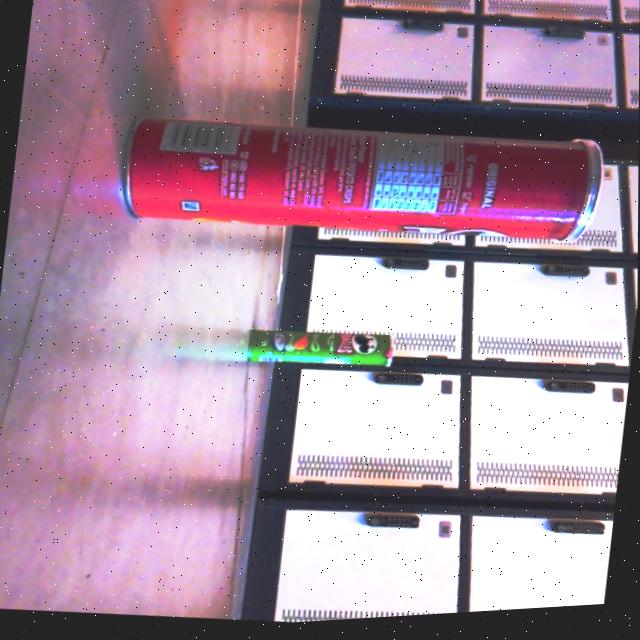greenpringles: (222, 307, 410, 389)
redpringles: (102, 81, 639, 285)
